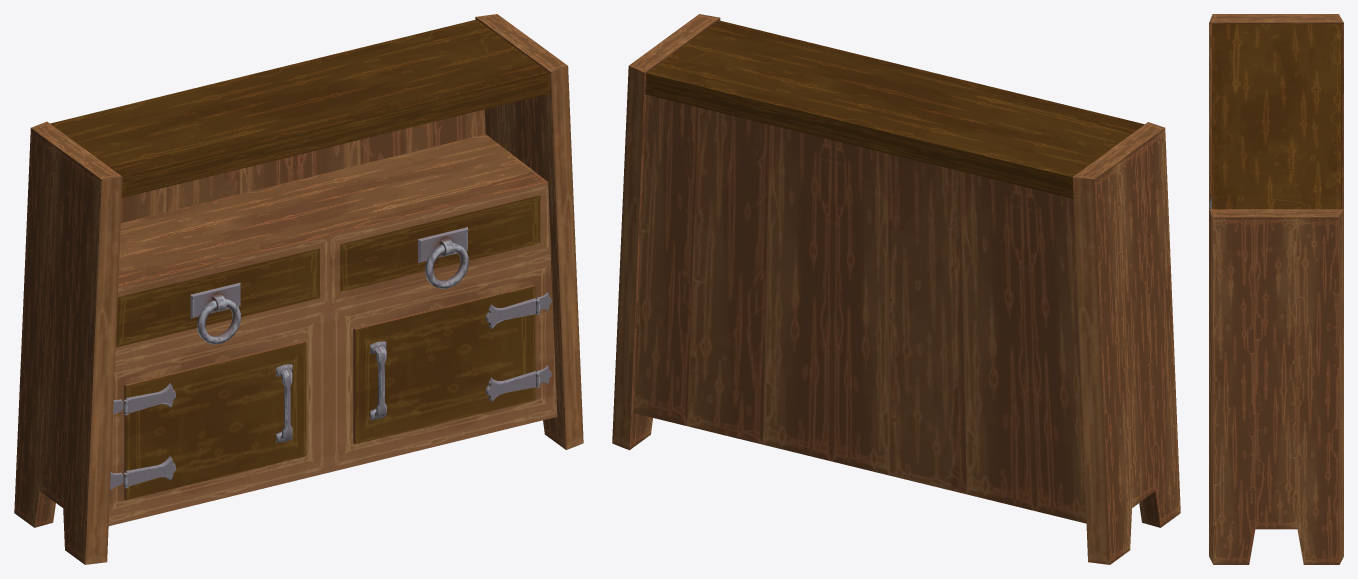
The model's file is prop_cabinet.glb.
3 renders of one model, left to right at view 1: azimuth 30°, elevation 25°; view 2: azimuth 150°, elevation 25°; view 3: azimuth 270°, elevation 25°, orthographic. The views are drawn at different scales.
Parts seen in each view (by area): view 1: Cube098, Cube098_1; view 2: Cube098; view 3: Cube098.
Boxes of the visible parts, x1,y1,x2,y2 form: Cube098: (14,14,583,564); Cube098_1: (110,227,551,490); Cube098: (612,14,1180,564); Cube098: (1209,14,1343,564).
Bounding box in the file's own units: 1.36 × 0.9974 × 0.3571.
Materials: 2 (2 with a texture image).
